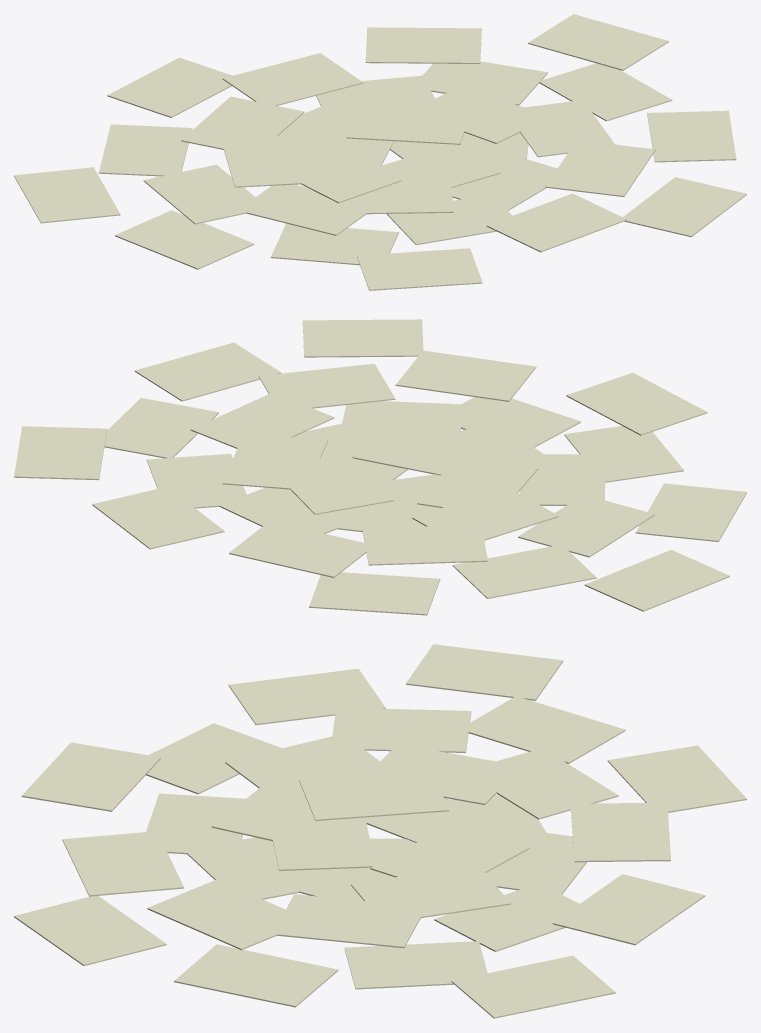
File: ScatteredPaperPile.fbx
3 renders of one model, top to bottom at view 1: azimuth 30°, elevation 25°; view 2: azimuth 150°, elevation 25°; view 3: azimuth 270°, elevation 25°, orthographic. The views are drawn at different scales.
Visible parts, largest first — view 1: ScatteredPaperPile; view 2: ScatteredPaperPile; view 3: ScatteredPaperPile.
Boxes of the visible parts, bbox=[...] form: ScatteredPaperPile: bbox=[14, 14, 746, 290]; ScatteredPaperPile: bbox=[14, 319, 746, 615]; ScatteredPaperPile: bbox=[14, 644, 746, 1018].
Bounding box in the file's own units: 184 × 1.1 × 152.
1 material, 1 textured.
